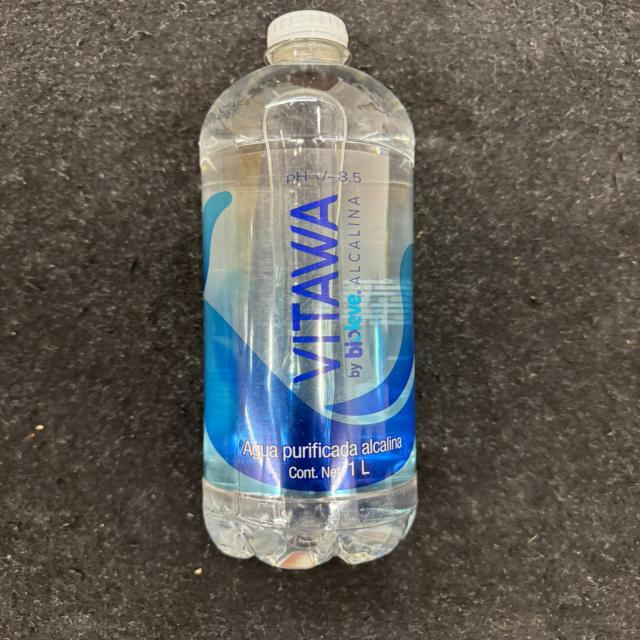AGUA ALCALINA VITAWA 1LT: (204, 13, 422, 565)
